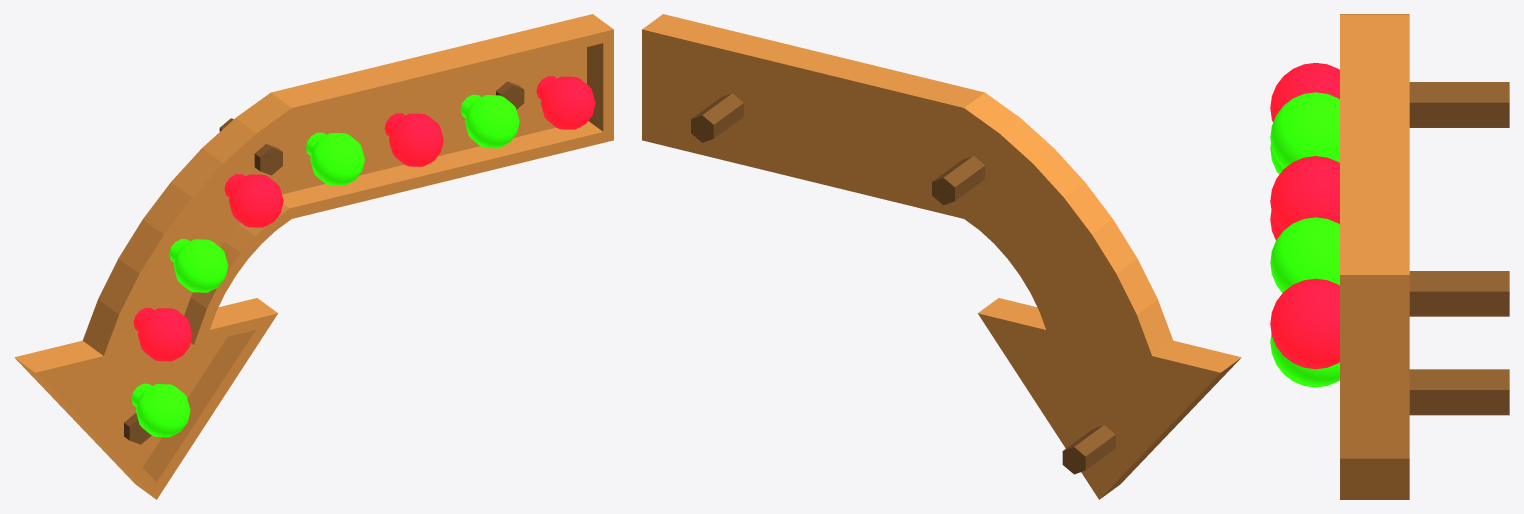
Rendered from SignArrow-1.glb.
3 views of the same model, side by side, from view 1: azimuth 30°, elevation 25°; view 2: azimuth 150°, elevation 25°; view 3: azimuth 270°, elevation 25° (orthographic). The views are drawn at different scales.
Parts seen in each view (by area): view 1: Arrow-Sign-col, SignLamp-5, SignLamp-1, SignLamp-6, SignLamp-8, SignLamp-3, SignLamp-4, SignLamp-2, SignLamp-7, Bolt-2; view 2: Arrow-Sign-col, Bolt-3, Bolt-1, Bolt-2; view 3: Arrow-Sign-col, SignLamp-1, Bolt-3, Bolt-1, Bolt-2, SignLamp-4, SignLamp-2, SignLamp-3, SignLamp-5, SignLamp-8.
Boxes of the visible parts, x1,y1,x2,y2 form: Arrow-Sign-col: (14,14,613,499); SignLamp-5: (224,174,283,227); SignLamp-1: (536,76,595,129); SignLamp-6: (169,239,228,292); SignLamp-8: (131,383,190,437); SignLamp-3: (384,113,443,166); SignLamp-4: (306,132,364,185); SignLamp-2: (460,94,519,148); SignLamp-7: (133,308,192,361); Bolt-2: (219,118,282,175); Arrow-Sign-col: (642,14,1241,499); Bolt-3: (1062,425,1115,474); Bolt-1: (691,93,743,142); Bolt-2: (932,155,984,205); Arrow-Sign-col: (1340,14,1409,499); SignLamp-1: (1270,278,1339,369); Bolt-3: (1409,369,1509,415); Bolt-1: (1409,271,1509,316); Bolt-2: (1409,82,1509,127); SignLamp-4: (1270,92,1339,168); SignLamp-2: (1270,217,1339,292); SignLamp-3: (1270,156,1339,231); SignLamp-5: (1270,62,1339,122); SignLamp-8: (1270,333,1339,387).
Bounding box in the file's own units: 1.64 × 0.9745 × 0.3557.
